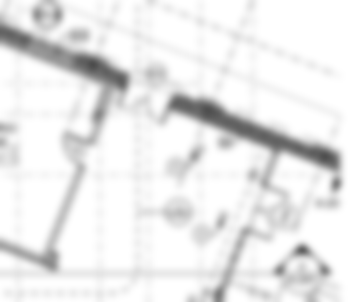double door: (245, 181, 290, 242), (116, 80, 174, 127)
